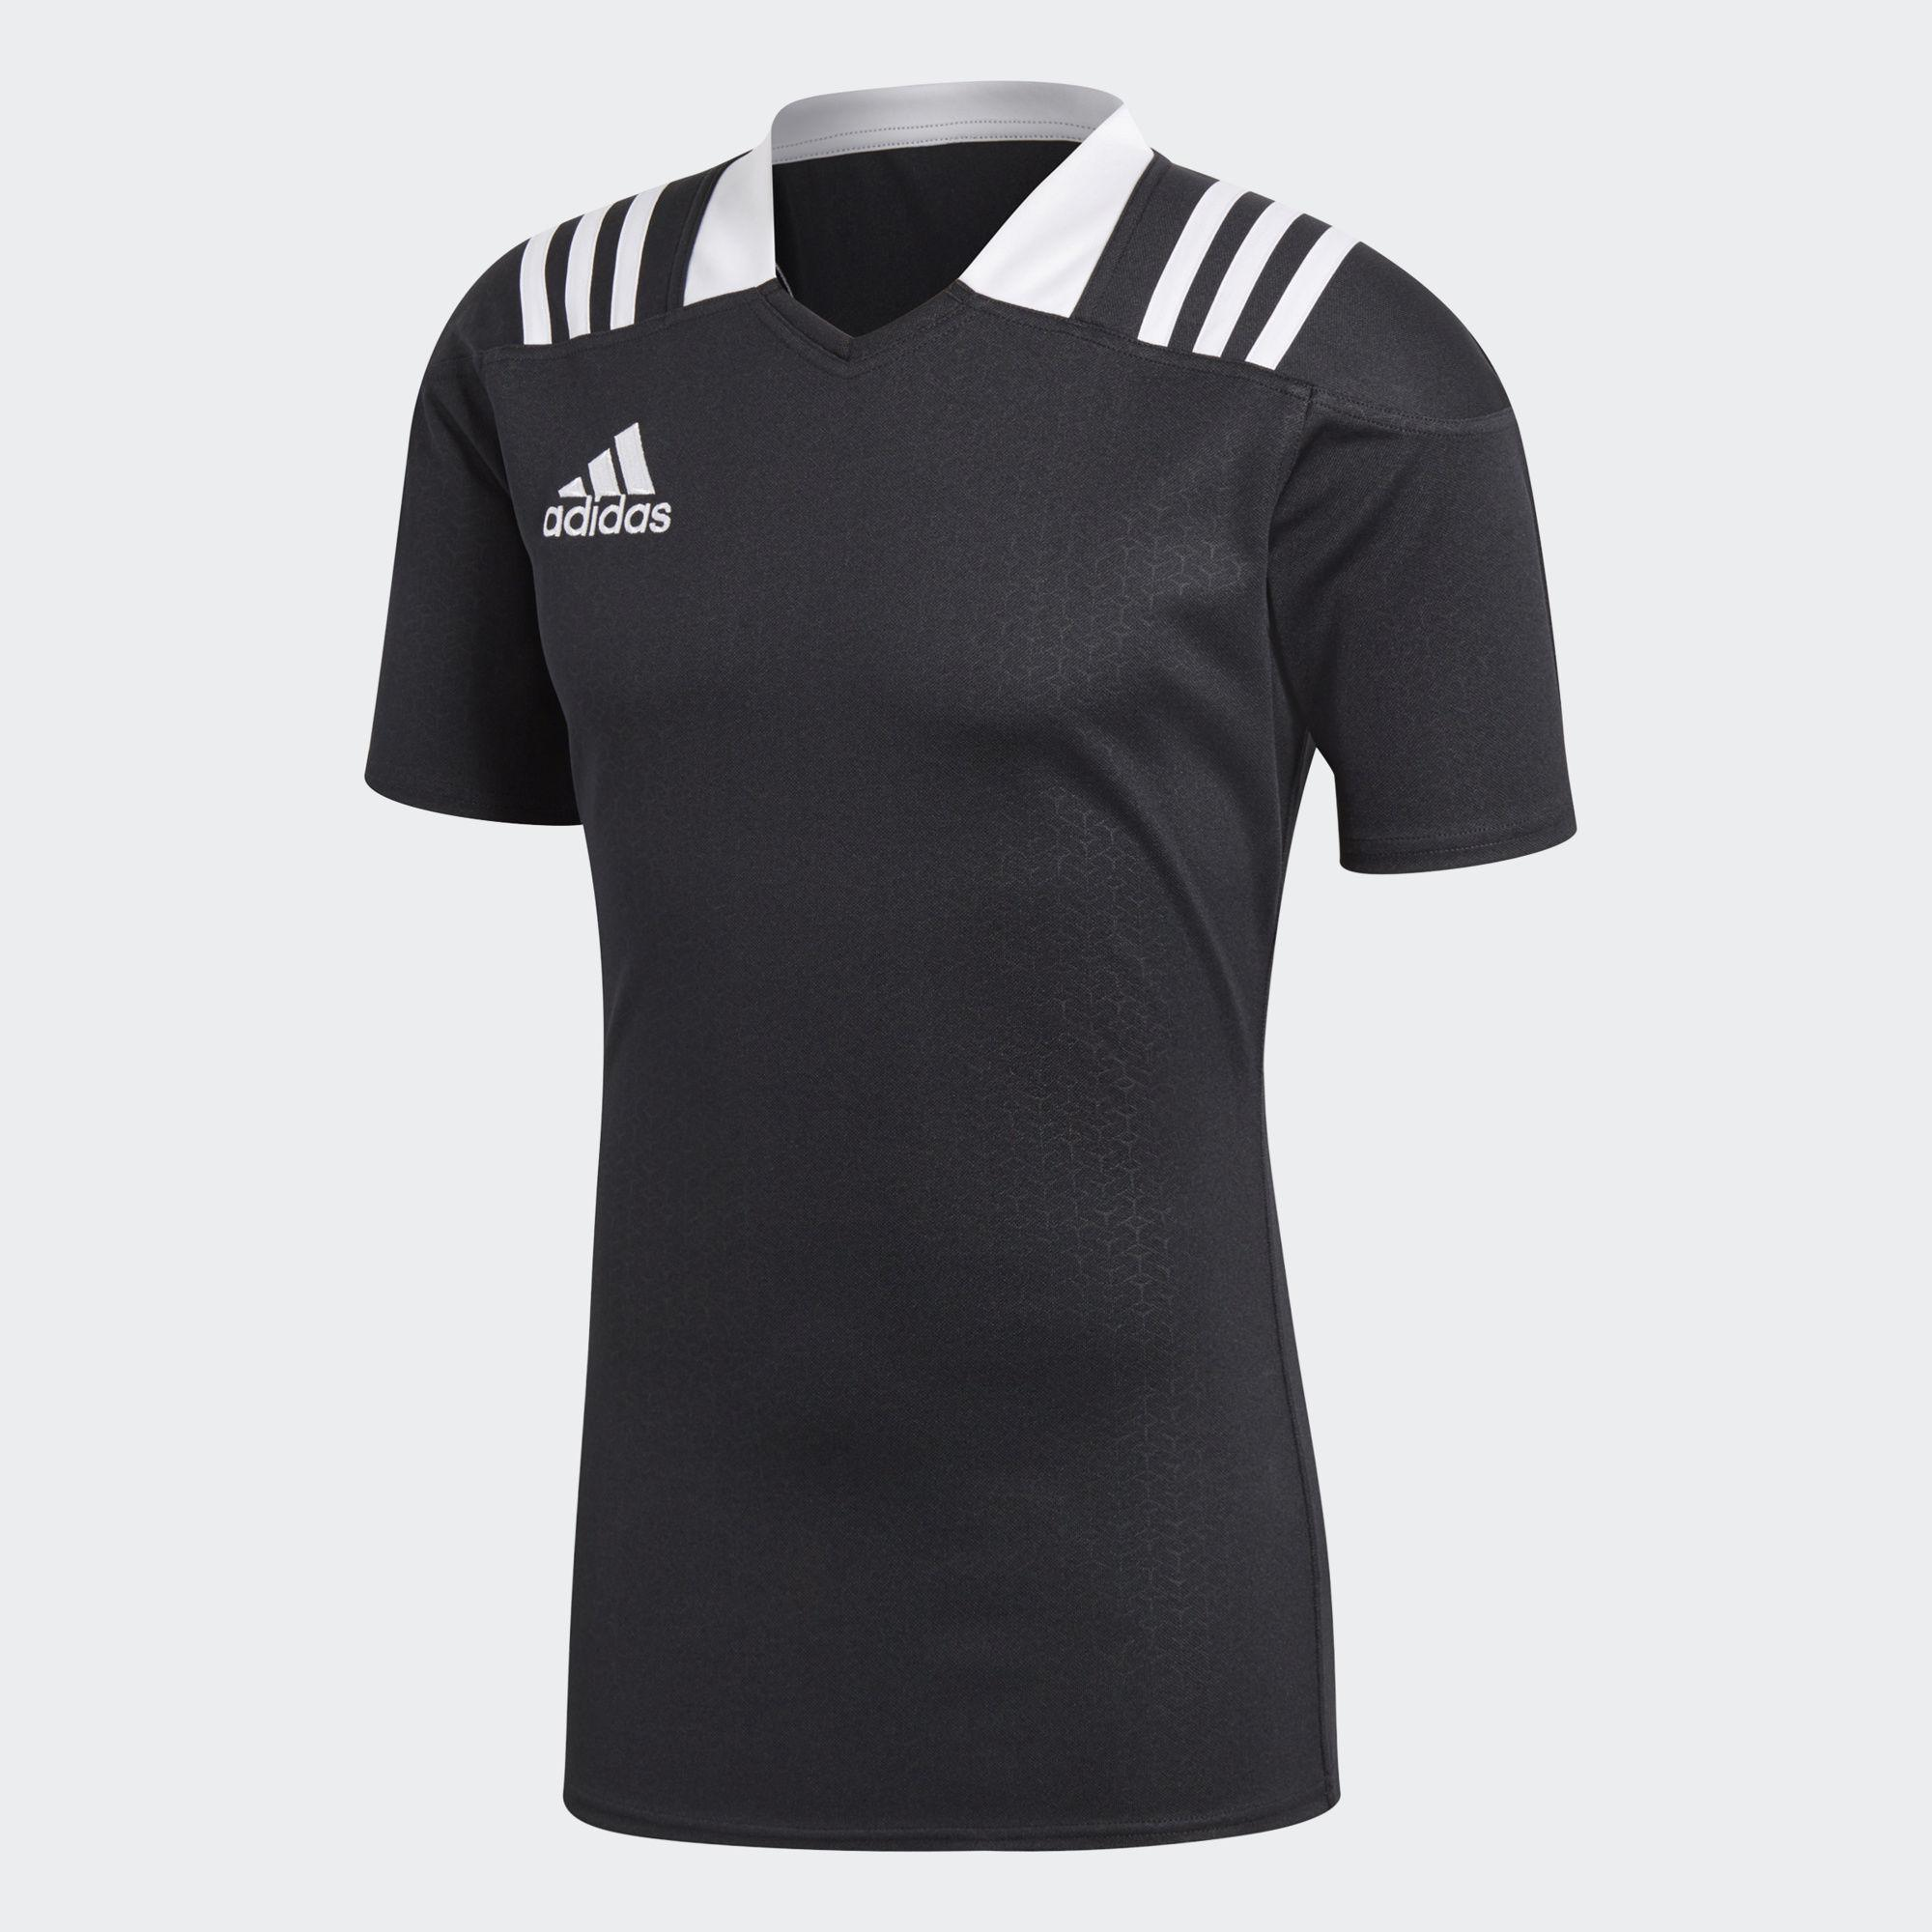teeshirt: (290, 42, 1778, 1877)
